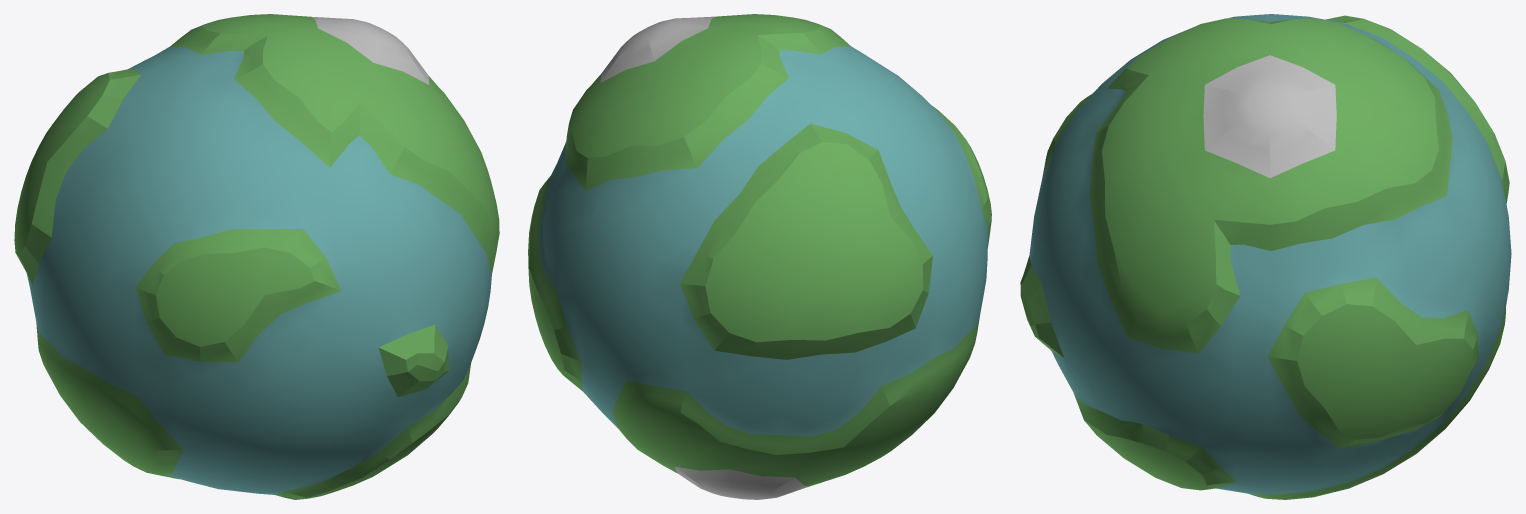
Rendered from Planet_1.glb.
The picture shows the model from 3 angles, left to right: view 1: azimuth 30°, elevation 25°; view 2: azimuth 150°, elevation 25°; view 3: azimuth 270°, elevation 25°; orthographic projection. The views are drawn at different scales.
Visible parts, largest first — view 1: Planet_1; view 2: Planet_1; view 3: Planet_1.
Part boxes in pixels (x1,y1,x2,y2): Planet_1: [14, 14, 499, 499]; Planet_1: [528, 14, 991, 499]; Planet_1: [1020, 14, 1511, 499].
Size of the model in its own units: 3.78 by 3.93 by 3.8.
Materials: 1 (1 with a texture image).
